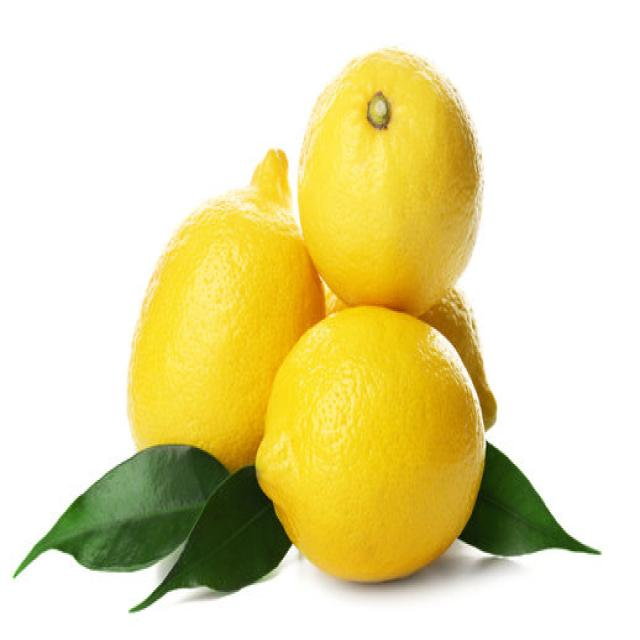Lemon: (126, 146, 326, 473), (254, 302, 486, 583), (297, 46, 483, 315)
